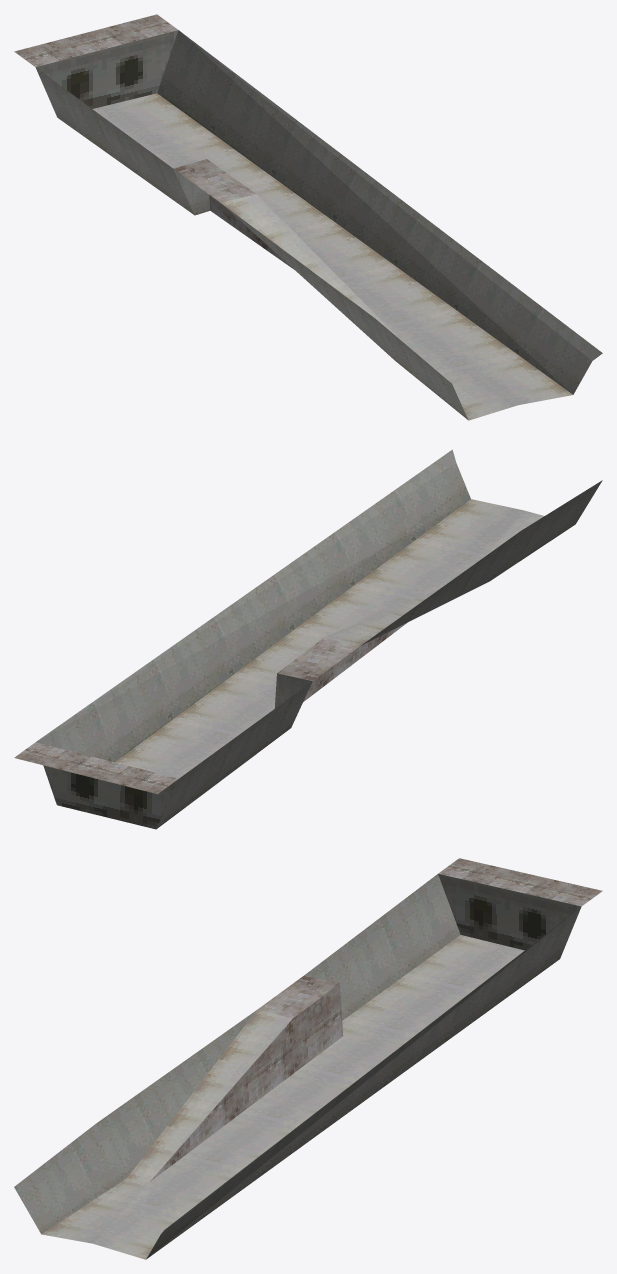
The model's file is lodlariversec2_lan.obj.
3 renders of one model, top to bottom at view 1: azimuth 30°, elevation 25°; view 2: azimuth 150°, elevation 25°; view 3: azimuth 330°, elevation 25°, orthographic.
Parts seen in each view (by area): view 1: LODLAriverSec2_LAn; view 2: LODLAriverSec2_LAn; view 3: LODLAriverSec2_LAn.
Part boxes in pixels (left/top/right/bottom): LODLAriverSec2_LAn: left=14, top=14, right=602, bottom=420; LODLAriverSec2_LAn: left=14, top=449, right=602, bottom=829; LODLAriverSec2_LAn: left=14, top=858, right=602, bottom=1259.
Bounding box in the file's own units: 14.3 × 5.25 × 72.7.
4 materials, 4 textured.
